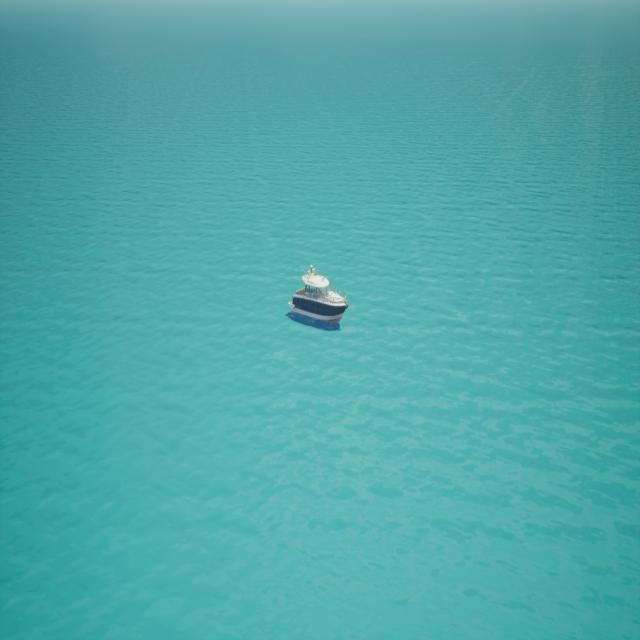ship: (286, 263, 350, 329)
